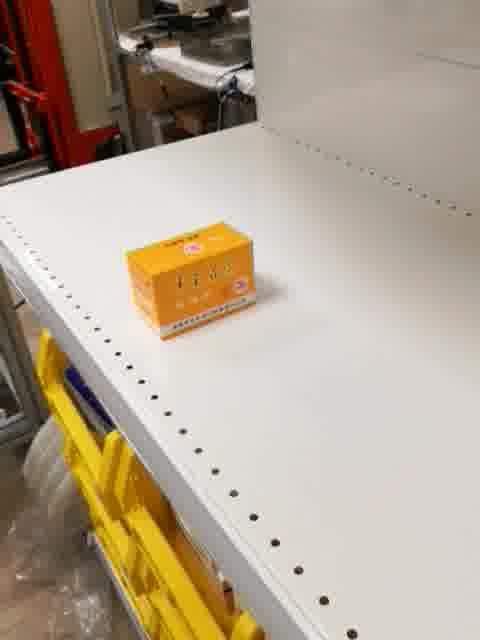jasminetea: (124, 218, 255, 345)
